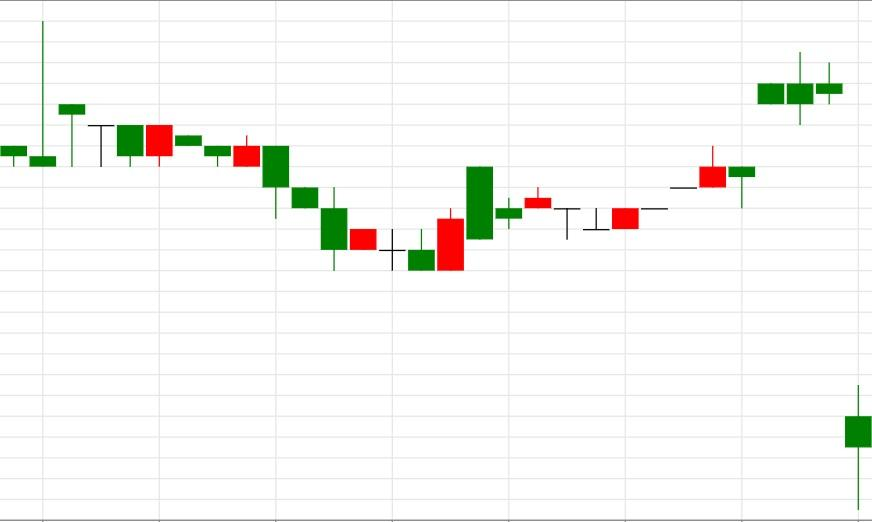bullish_engulfing_rise: (58, 104, 465, 271)
